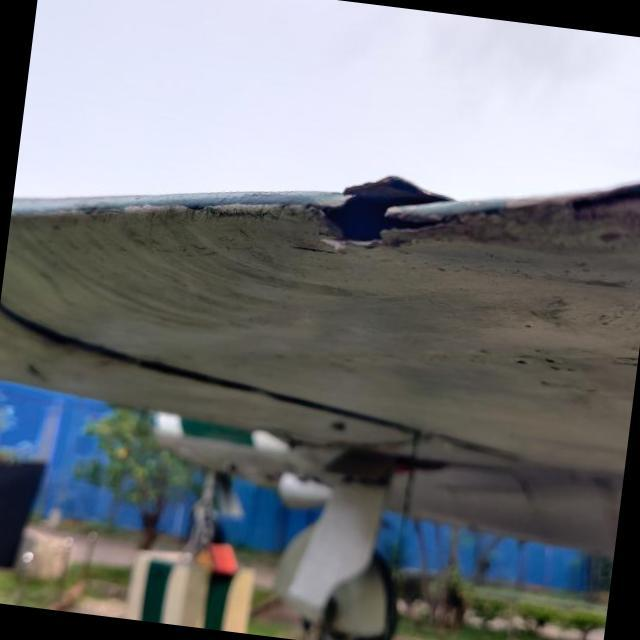Rupture: (287, 150, 470, 277)
